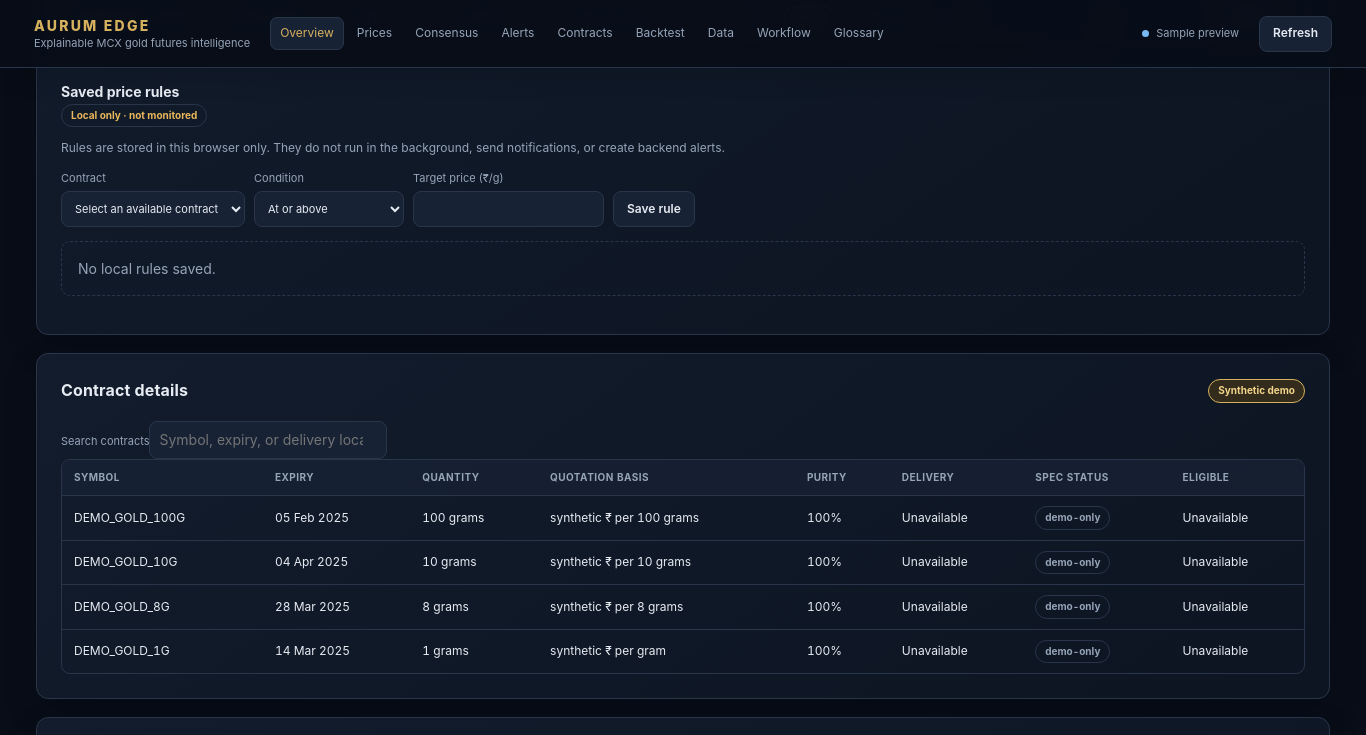
Test case: dashboard interactions against backend contract › filters contracts by instrument, expiry, and delivery location
(page scrolled)
Expected: the text "DEMO_GOLD_100G" is shown, [62,496,263,540]
Expected: the text "100 grams" is shown, [410,496,538,540]
Type "DEMO_GOLD_8G" into the search field labelled "Search contracts".
click(268, 440); type("DEMO_GOLD_8G")  # box [150,421,388,459]
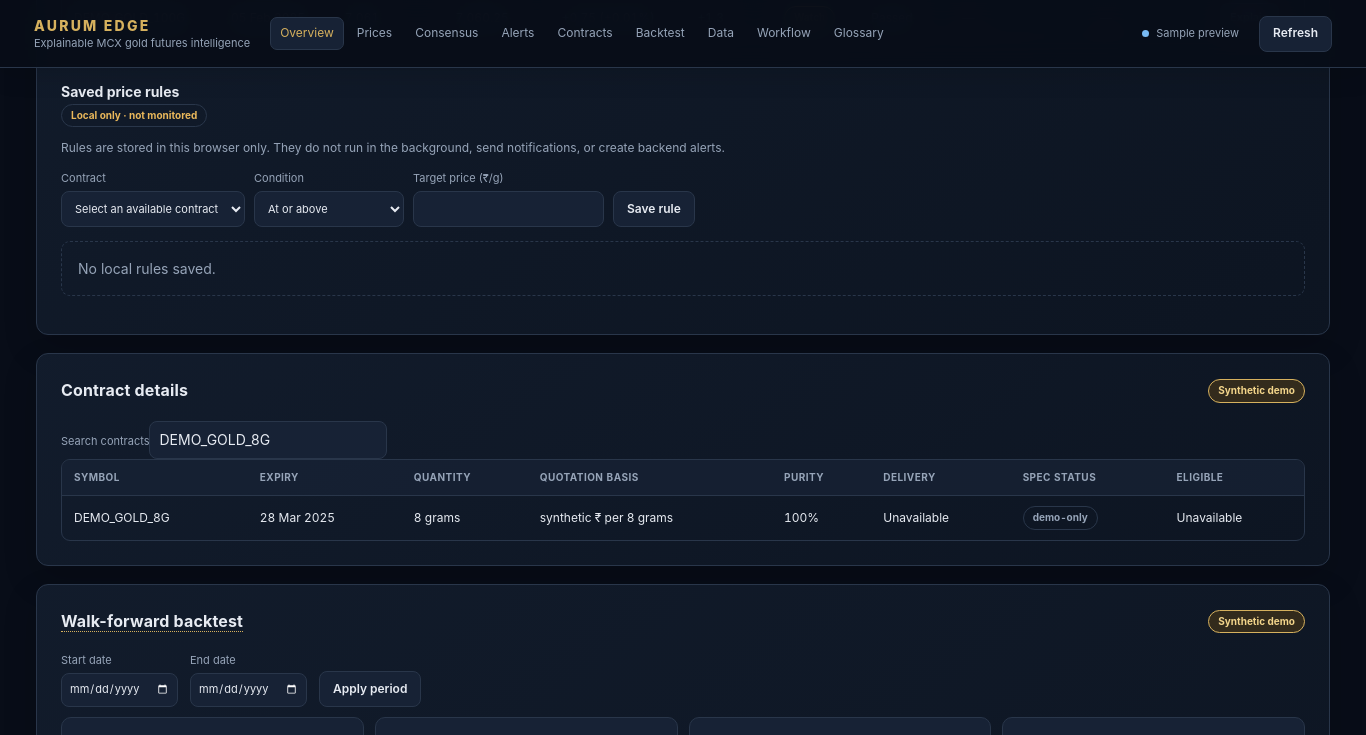
Expected: the text "DEMO_GOLD_8G" is shown, [62,496,248,540]
Replace the text in the search field labelled "Search contracts" with "no-match" at (268, 440), box [150,421,388,459]
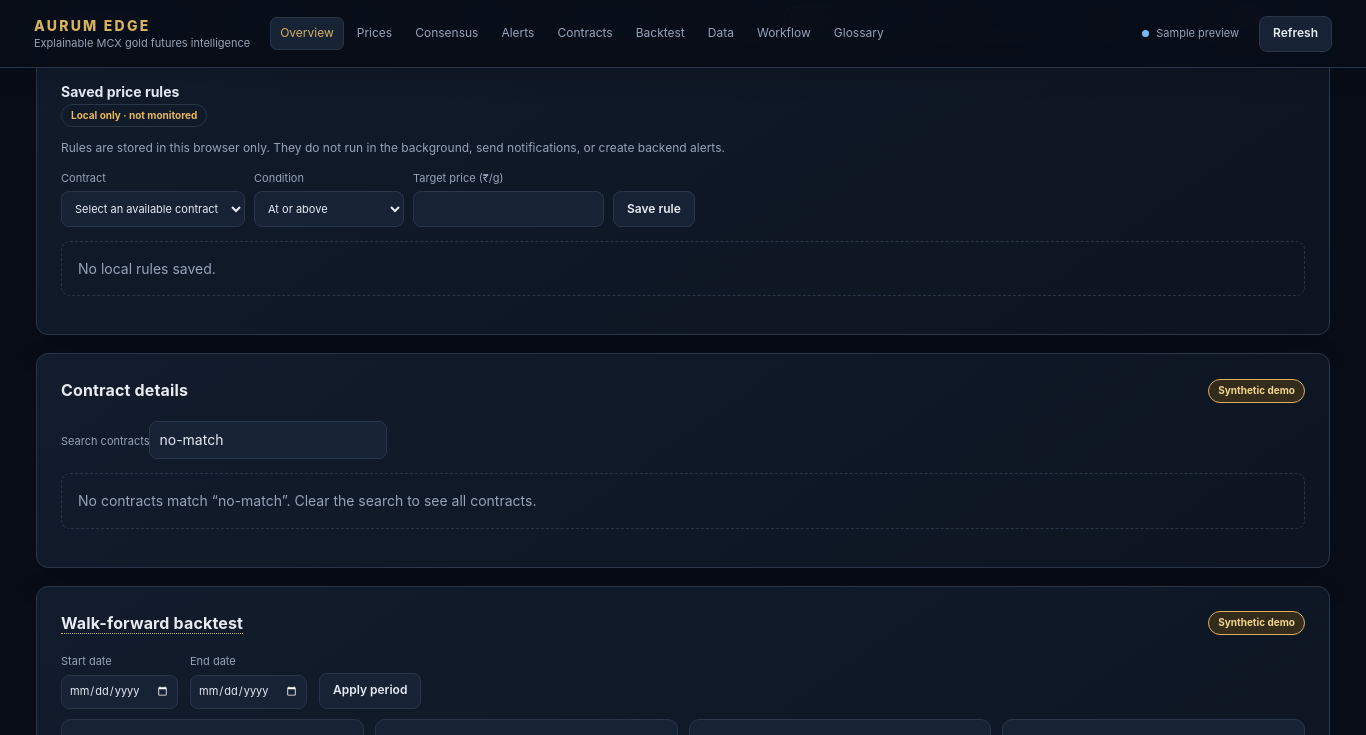
Expected: the text "No contracts match" is shown, [78,492,218,509]
Clear the search field labelled "Search contracts" at (268, 440), box [150,421,388,459]
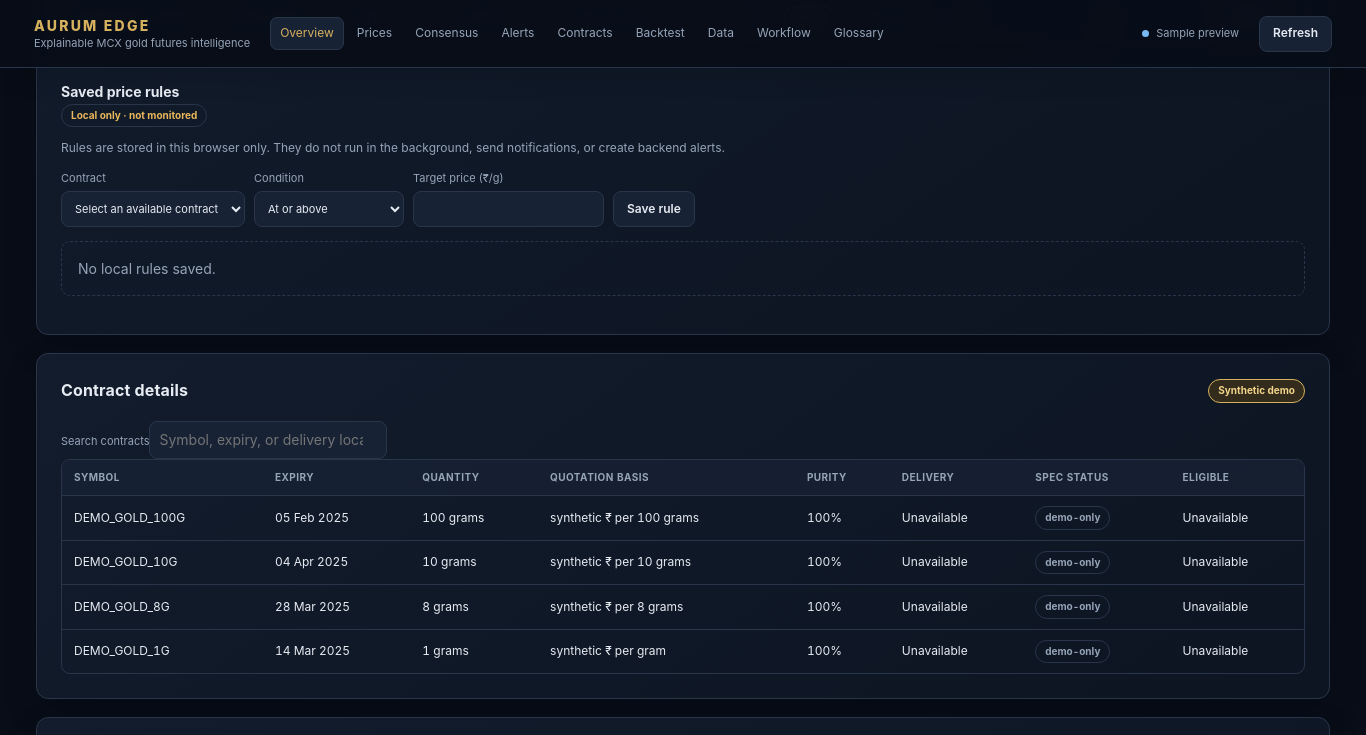
Expected: the text "DEMO_GOLD_100G" is shown, [62,496,263,540]
